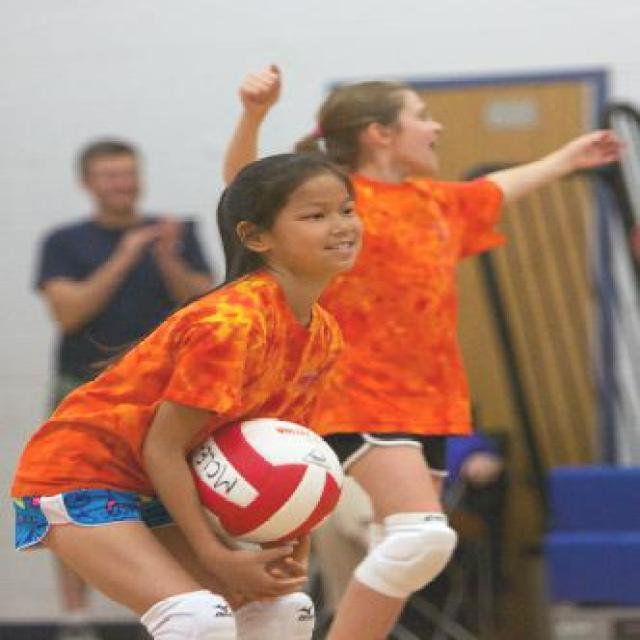volleyball: (186, 417, 344, 545)
